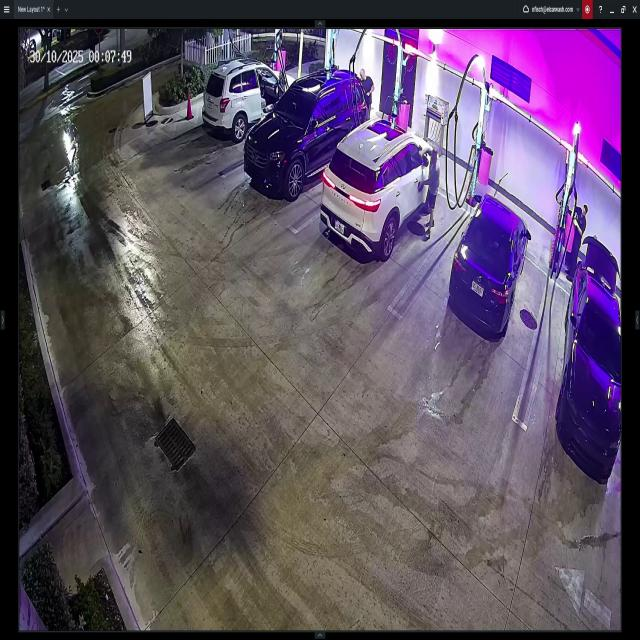Car: (322, 115, 437, 263), (242, 68, 368, 194), (558, 237, 622, 478), (449, 188, 531, 340), (201, 57, 296, 141)
